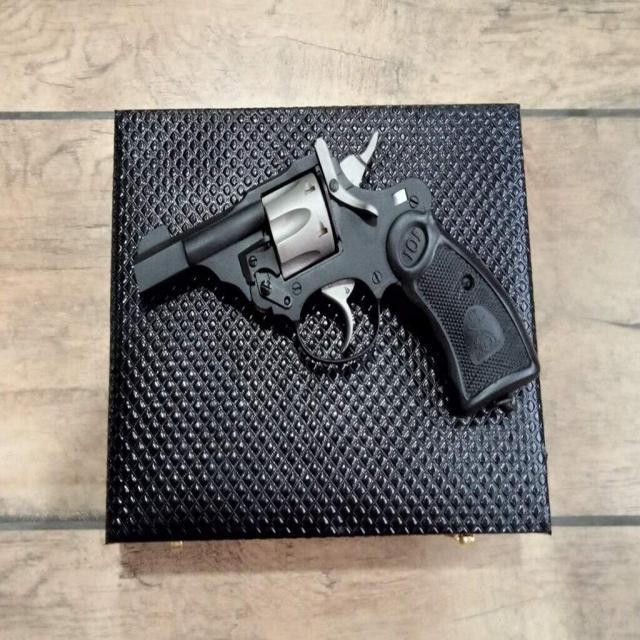handgun: (133, 134, 541, 420)
